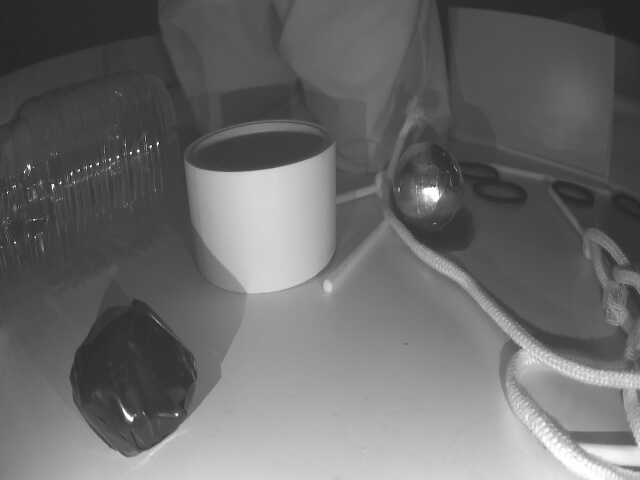Live: (395, 140, 464, 234)
